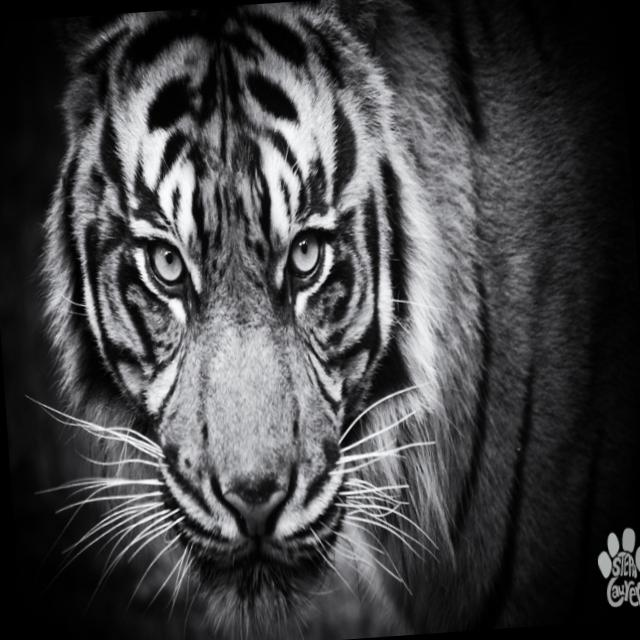tiger: (36, 0, 529, 609)
